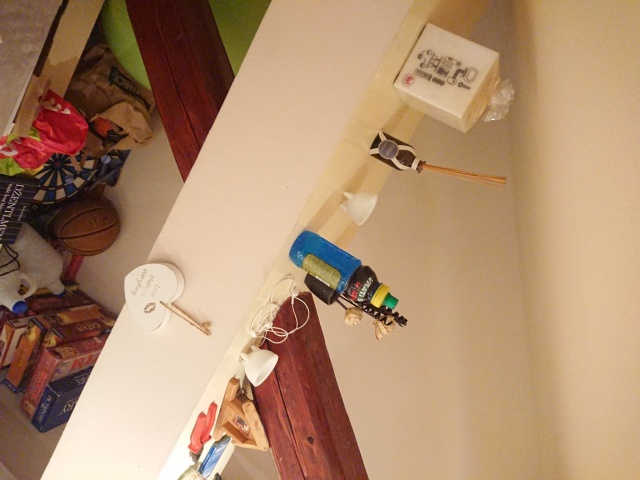Vindi Iso Sport Forest Strawberries 500mL: (286, 227, 399, 309)
